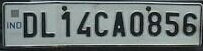character: (22, 11, 38, 37), (76, 10, 91, 37), (164, 11, 180, 36), (41, 11, 55, 38), (129, 11, 144, 36), (146, 11, 161, 36), (94, 10, 107, 36), (112, 11, 125, 37), (182, 12, 196, 35), (61, 11, 70, 37)
